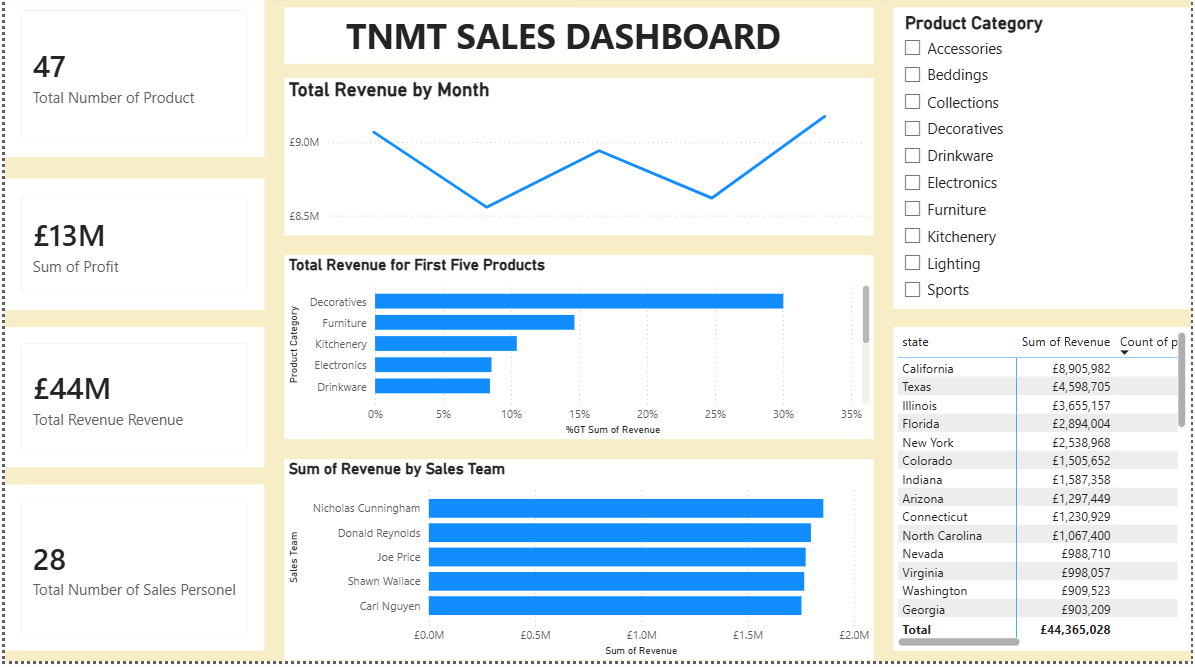

Layout of this report page (visuals, bound fields, positions):
{"tool":"powerbi","page":{"name":"DASHBOARD","canvas":[1280,720],"ordinal":3},"visuals":[{"type":"cardVisual","fields":{"Data":["Sum(Sales table.Revenue)"]},"box":[0,359.1,279.7,151.2],"z":0},{"type":"cardVisual","fields":{"Data":["Sum(Sales table.Profit)"]},"box":[0,198.4,279.7,141.7],"z":1000},{"type":"cardVisual","fields":{"Data":["CountNonNull(Products.Product Name)"]},"box":[0,0,279.7,175.7],"z":2000},{"type":"cardVisual","fields":{"Data":["CountNonNull(Sales Team.Sales Team)"]},"box":[0,529.1,279.7,179.5],"z":3000},{"type":"textbox","box":[300.5,15.1,636.9,60.5],"z":4000},{"type":"lineChart","title":"Total Revenue by Month","fields":{"Y":["Sum(Sales table.Revenue)"],"Category":["Sales table.Sales Date.Variation.Date Hierarchy.Month"]},"box":[300.5,90.7,636.9,170.1],"z":5000},{"type":"barChart","title":"Total Revenue for First Five Products","fields":{"Category":["Products.Product Category"],"Y":["Sum(Sales table.Revenue)"]},"box":[300.5,281.6,636.9,198.4],"z":6000},{"type":"barChart","fields":{"Category":["Sales Team.Sales Team"],"Y":["Sum(Sales table.Revenue)"]},"box":[300.5,502.7,636.9,217.3],"z":7000},{"type":"slicer","fields":{"Values":["Products.Product Category"]},"box":[958.1,15.1,321.3,325],"z":8000},{"type":"pivotTable","fields":{"Rows":["Store Locations.state"],"Values":["Sum(Sales table.Revenue)","CountNonNull(Store Locations.population)","CountNonNull(Store Locations.median_income)"]},"box":[958.1,359.1,321.3,349.6],"z":9000}]}

Visuals, with their boxes in screenshot pixels (x1, y1, x2, y2), scaled from the page's 1280x720 canvas onto the 1195x667 screenshot:
cardVisual - Sum(Sales table.Revenue): [0,333,261,473]
cardVisual - Sum(Sales table.Profit): [0,184,261,315]
cardVisual - CountNonNull(Products.Product Name): [0,0,261,163]
cardVisual - CountNonNull(Sales Team.Sales Team): [0,490,261,656]
textbox: [281,14,875,70]
"Total Revenue by Month" lineChart: [281,84,875,242]
"Total Revenue for First Five Products" barChart: [281,261,875,445]
barChart - Sales Team.Sales Team x Sum(Sales table.Revenue): [281,466,875,666]
slicer - Products.Product Category: [894,14,1194,315]
pivotTable - Store Locations.state x Sum(Sales table.Revenue): [894,333,1194,657]
